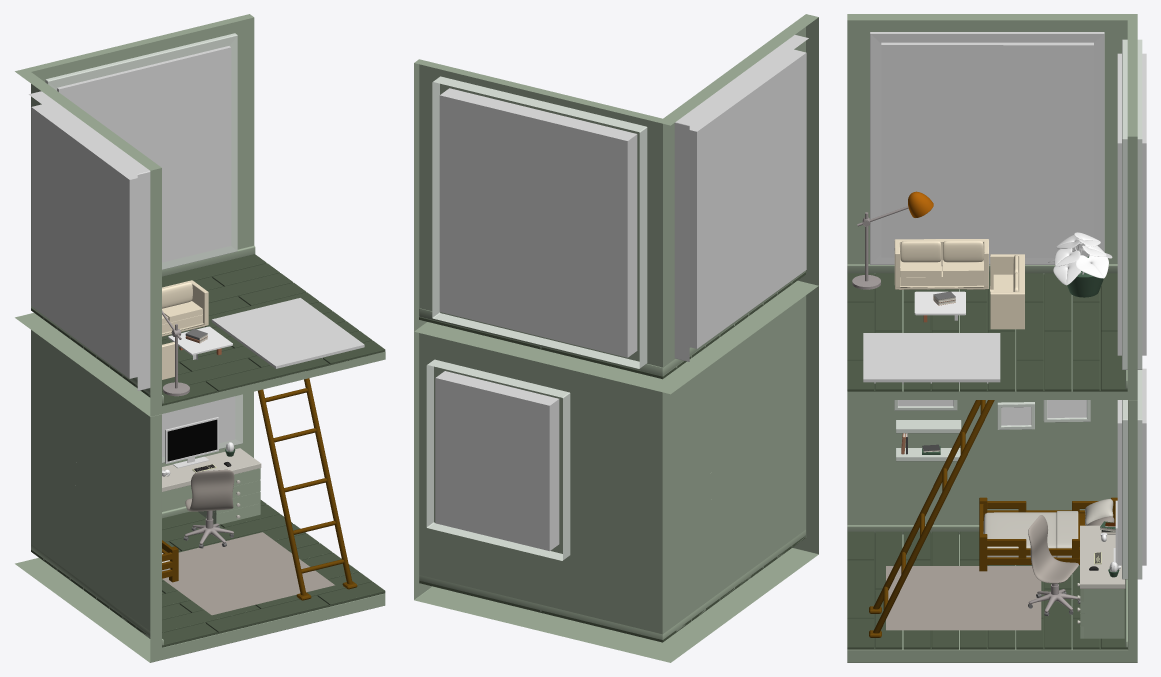
File: room.glb
3 renders of one model, left to right at view 1: azimuth 30°, elevation 25°; view 2: azimuth 150°, elevation 25°; view 3: azimuth 270°, elevation 25°, orthographic. The views are drawn at different scales.
Parts seen in each view (by area): view 1: walls, window.002, window.001, walls_2, floor.001, floor, walls.001, Cube.019, window frame.002, window frame.001, Cube.021, Cube.138 (+11 smaller); view 2: walls, window.001, walls_2, window.002, window, window frame.001, window frame.002, window frame, wall floor part, floor.001, wall floor part.001, floor; view 3: window.002, walls, walls_2, floor.001, floor, walls.001, window frame.002, Cube.019, window frame.001, Cube.021, window.001, bed frame (+25 smaller).
Part boxes in pixels (bbox=[...]): walls: bbox=[15, 313, 385, 662]; window.002: bbox=[31, 104, 137, 378]; window.001: bbox=[57, 46, 231, 262]; walls_2: bbox=[15, 14, 385, 416]; floor.001: bbox=[31, 254, 385, 405]; floor: bbox=[31, 500, 385, 647]; walls.001: bbox=[162, 532, 334, 615]; Cube.019: bbox=[211, 298, 364, 368]; window frame.002: bbox=[28, 91, 150, 390]; window frame.001: bbox=[45, 33, 237, 269]; Cube.021: bbox=[258, 378, 357, 600]; Cube.138: bbox=[165, 417, 218, 468]; walls: bbox=[414, 283, 818, 662]; window.001: bbox=[439, 88, 637, 357]; walls_2: bbox=[414, 14, 818, 393]; window.002: bbox=[689, 49, 806, 348]; window: bbox=[435, 371, 559, 551]; window frame.001: bbox=[432, 76, 647, 368]; window frame.002: bbox=[674, 35, 808, 361]; window frame: bbox=[426, 359, 570, 560]; wall floor part: bbox=[419, 530, 805, 639]; floor.001: bbox=[419, 272, 805, 379]; wall floor part.001: bbox=[419, 270, 805, 375]; floor: bbox=[419, 535, 805, 642]; window.002: bbox=[881, 42, 1093, 257]; walls: bbox=[847, 400, 1137, 662]; walls_2: bbox=[847, 14, 1137, 399]; floor.001: bbox=[847, 273, 1127, 391]; floor: bbox=[847, 531, 1127, 649]; walls.001: bbox=[886, 566, 1041, 630]; window frame.002: bbox=[870, 32, 1104, 264]; Cube.019: bbox=[863, 333, 1000, 384]; window frame.001: bbox=[1122, 39, 1142, 369]; Cube.021: bbox=[869, 400, 994, 637]; window.001: bbox=[1117, 53, 1146, 355]; bed frame: bbox=[979, 497, 1117, 571].
Bounding box in the file's own units: 4.08 × 8 × 4.12.
